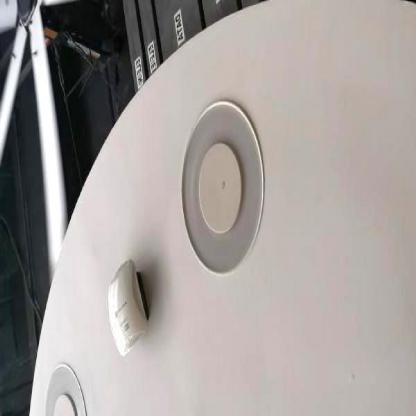light_off: (170, 64, 275, 293)
